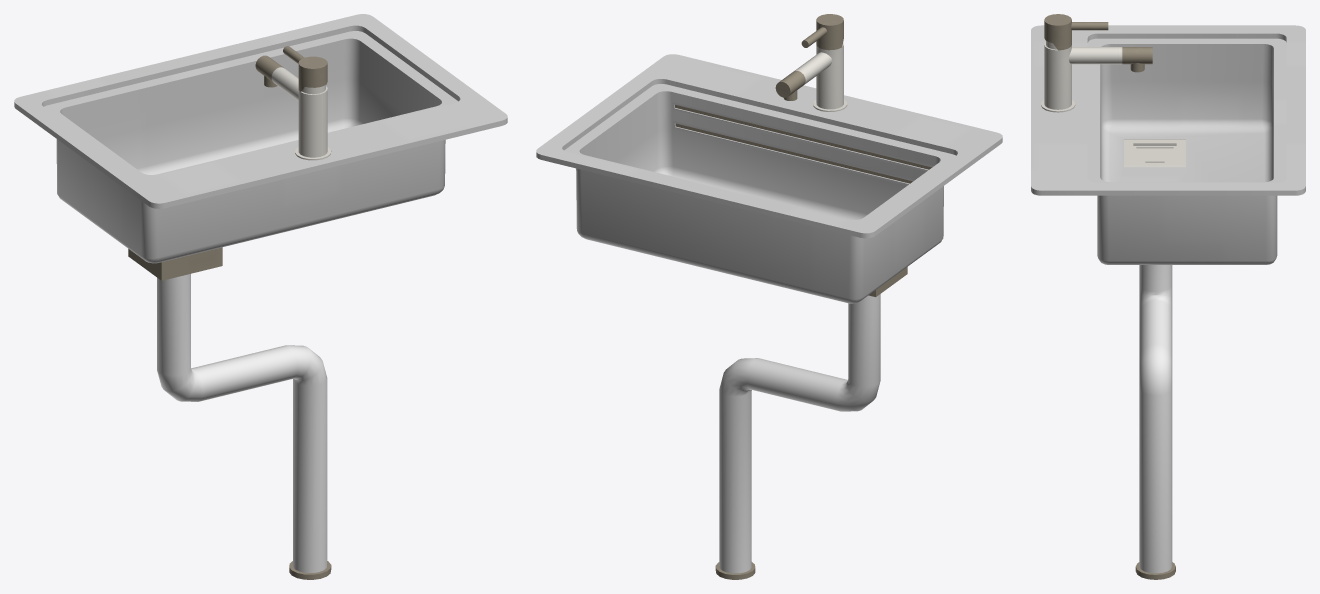
File: Sink03.glb
The picture shows the model from 3 angles, left to right: view 1: azimuth 30°, elevation 25°; view 2: azimuth 150°, elevation 25°; view 3: azimuth 270°, elevation 25°; orthographic projection. The views are drawn at different scales.
Parts seen in each view (by area): view 1: Sink03_model, SinkFaucet03, SinkFaucet03Handle; view 2: Sink03_model, SinkFaucet03, SinkFaucet03Handle; view 3: Sink03_model, SinkFaucet03, Sink03Net, SinkFaucet03Handle.
Part boxes in pixels (left/top/right/bottom): Sink03_model: left=14, top=14, right=507, bottom=579; SinkFaucet03: left=255, top=55, right=331, bottom=160; SinkFaucet03Handle: left=283, top=46, right=327, bottom=91; Sink03_model: left=536, top=54, right=1002, bottom=579; SinkFaucet03: left=775, top=42, right=847, bottom=111; SinkFaucet03Handle: left=801, top=14, right=843, bottom=50; Sink03_model: left=1031, top=25, right=1305, bottom=579; SinkFaucet03: left=1041, top=41, right=1152, bottom=112; Sink03Net: left=1124, top=139, right=1185, bottom=167; SinkFaucet03Handle: left=1044, top=14, right=1108, bottom=50.
Bounding box in the file's own units: 1.42 × 2.12 × 0.9963.
Materials: 1 (1 with a texture image).
